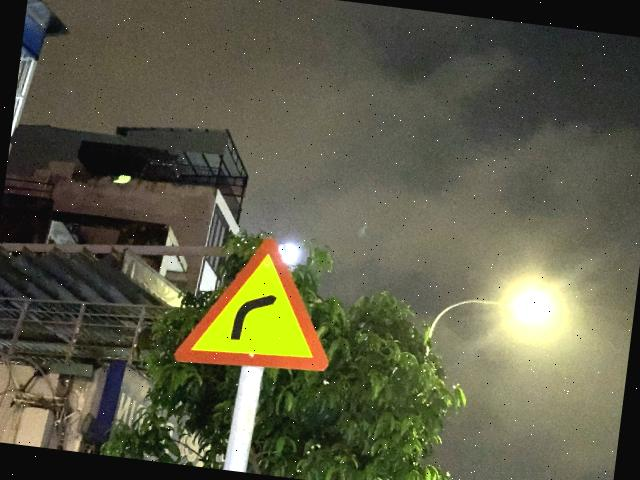cho-ngoat-nguy-hiem-ben-trai: (173, 228, 342, 382)
